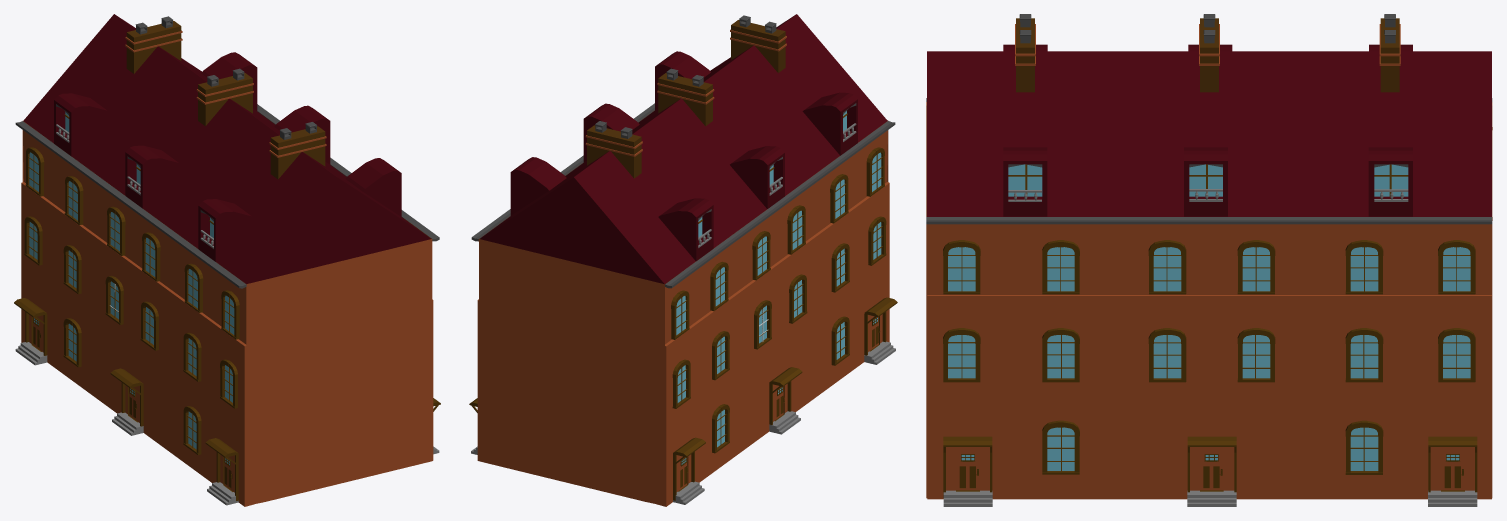
File: ratusz.fbx
3 renders of one model, left to right at view 1: azimuth 30°, elevation 25°; view 2: azimuth 150°, elevation 25°; view 3: azimuth 270°, elevation 25°, orthographic. The views are drawn at different scales.
Visible parts, largest first — view 1: Cube, Cube.109, Cube.041, Cube.092, Cube.125, Cube.110, Cube.018, Cube.005, Cube.007, Cube.014, Cube.049, Cube.079 (+1 smaller); view 2: Cube, Cube.109, Cube.041, Cube.092, Cube.125, Cube.110, Cube.018, Cube.014, Cube.007, Cube.005, Cube.049, Cube.079 (+1 smaller); view 3: Cube, Cube.109, Cube.112, Cube.092, Cube.041, Cube.110, Cube.049, Cube.015, Cube.018, Cube.079, Cube.082, Cube.007 (+3 smaller).
Boxes of the visible parts, bbox=[...] form: Cube: bbox=[21, 111, 433, 506]; Cube.109: bbox=[23, 14, 430, 283]; Cube.041: bbox=[54, 52, 401, 261]; Cube.092: bbox=[24, 147, 239, 455]; Cube.125: bbox=[29, 152, 234, 449]; Cube.110: bbox=[15, 104, 439, 288]; Cube.018: bbox=[14, 298, 440, 500]; Cube.005: bbox=[270, 126, 325, 179]; Cube.007: bbox=[126, 20, 181, 73]; Cube.014: bbox=[198, 73, 252, 126]; Cube.049: bbox=[28, 155, 234, 447]; Cube.079: bbox=[15, 342, 439, 505]; Cube: bbox=[477, 114, 889, 506]; Cube.109: bbox=[480, 14, 887, 284]; Cube.041: bbox=[510, 51, 857, 261]; Cube.092: bbox=[671, 147, 886, 453]; Cube.125: bbox=[676, 152, 881, 447]; Cube.110: bbox=[471, 103, 895, 288]; Cube.018: bbox=[469, 297, 897, 500]; Cube.014: bbox=[658, 73, 712, 126]; Cube.007: bbox=[587, 125, 641, 178]; Cube.005: bbox=[731, 20, 785, 72]; Cube.049: bbox=[676, 154, 882, 445]; Cube.079: bbox=[471, 341, 895, 504]; Cube: bbox=[926, 102, 1492, 499]; Cube.109: bbox=[927, 51, 1491, 216]; Cube.112: bbox=[948, 247, 1470, 470]; Cube.092: bbox=[943, 240, 1475, 474]; Cube.041: bbox=[1003, 44, 1412, 216]; Cube.110: bbox=[926, 98, 1492, 224]; Cube.049: bbox=[948, 247, 1470, 471]; Cube.015: bbox=[1008, 164, 1408, 196]; Cube.018: bbox=[943, 436, 1477, 498]; Cube.079: bbox=[943, 490, 1477, 506]; Cube.082: bbox=[956, 454, 1464, 491]; Cube.007: bbox=[1380, 18, 1399, 92].
Size of the model in its own units: 336 by 487 by 601.
26 materials, 26 textured.
